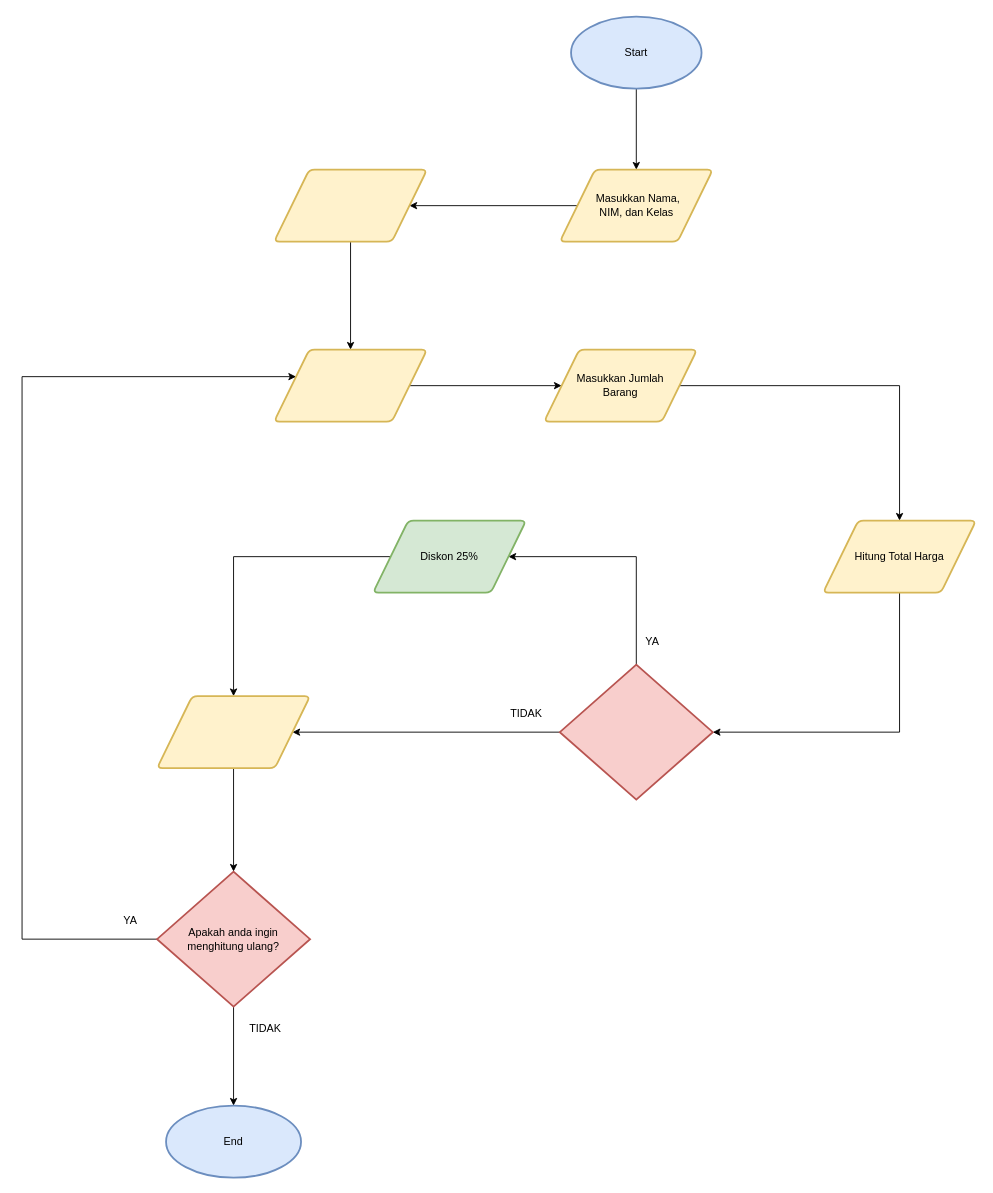
Some shapes in this 993 by 1193 pixel diagram are drawn without their labels. Each missing label, with the centre of its shape:
"Masukkan Harga Barang" goes at point 350,385.
"Output Nama, NIM, & Kelas" goes at point 350,205.
"Tampilkan Total Harga" goes at point 233,732.
"Total Harga > 250.000" goes at point 635,731.
